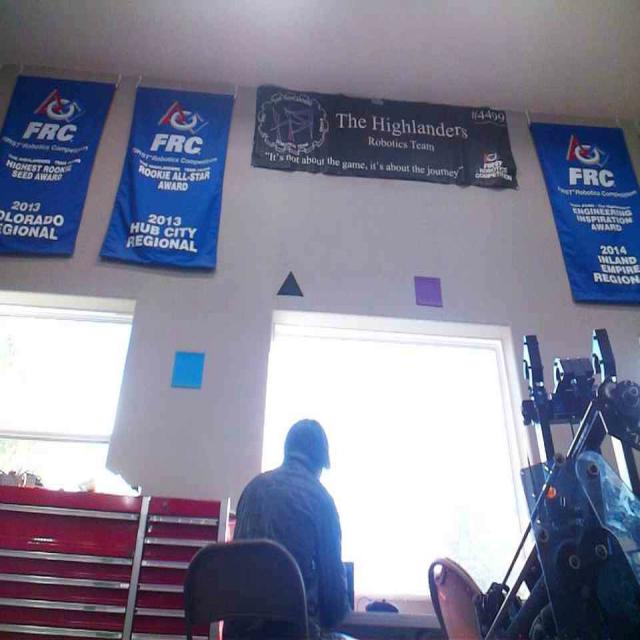square_blue: (171, 350, 206, 388)
square_purple: (411, 273, 445, 307)
triangle_black: (277, 270, 304, 294)
